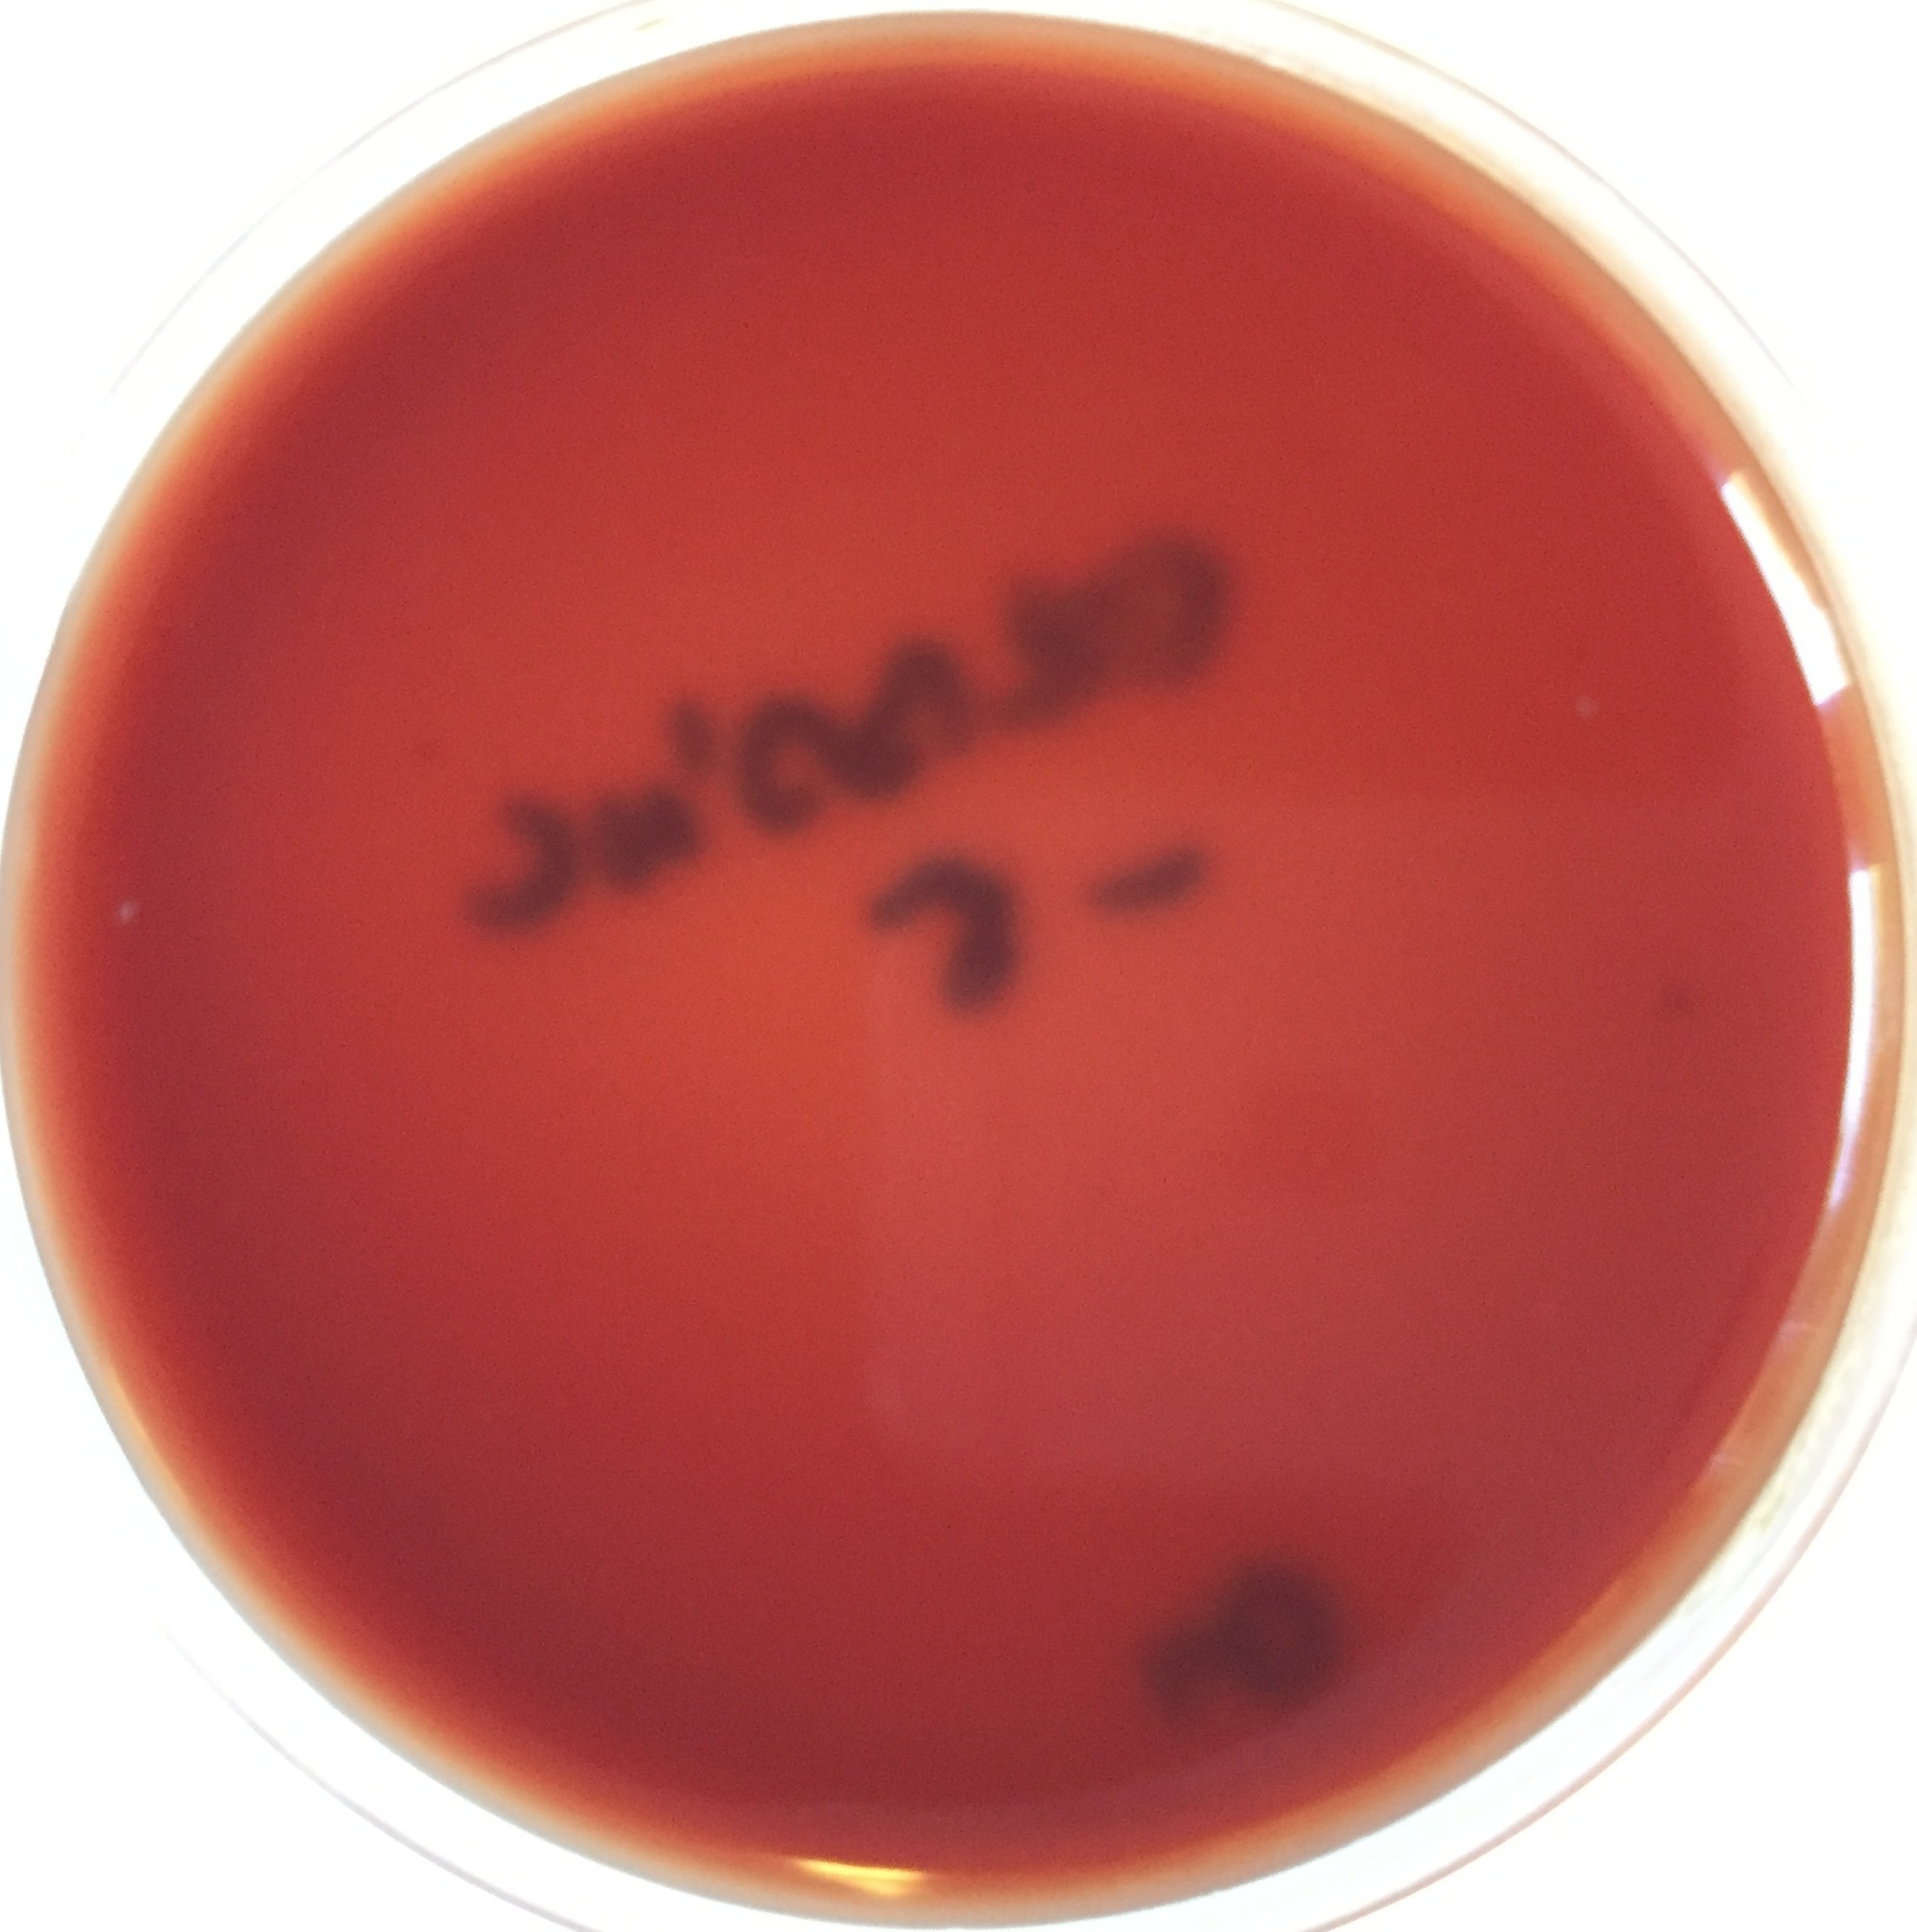sp10: (1568, 690, 1603, 722), (111, 899, 144, 927)
